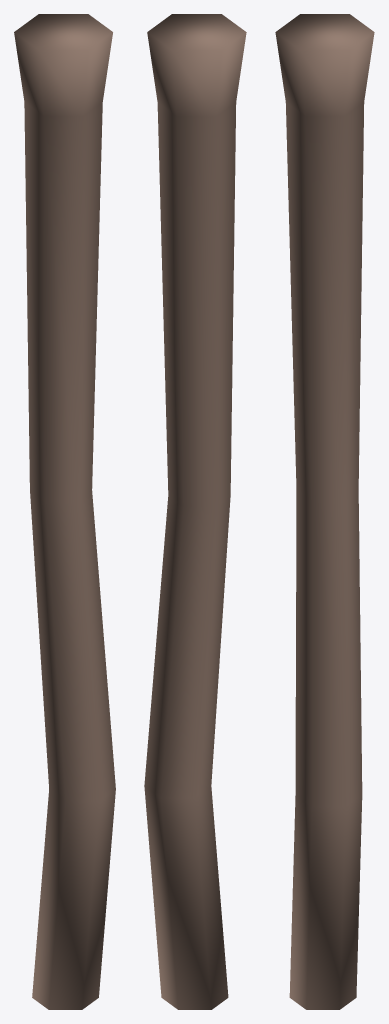
The model's file is Fence_Pole.fbx.
3 views of the same model, side by side, from view 1: azimuth 30°, elevation 25°; view 2: azimuth 210°, elevation 25°; view 3: azimuth 330°, elevation 25° (orthographic).
Parts seen in each view (by area): view 1: Cylinder.025; view 2: Cylinder.025; view 3: Cylinder.025.
Part boxes in pixels (bbox=[...]): Cylinder.025: bbox=[14, 14, 115, 1009]; Cylinder.025: bbox=[144, 14, 246, 1009]; Cylinder.025: bbox=[275, 14, 374, 1009].
Bounding box in the file's own units: 118 × 1459 × 136.
